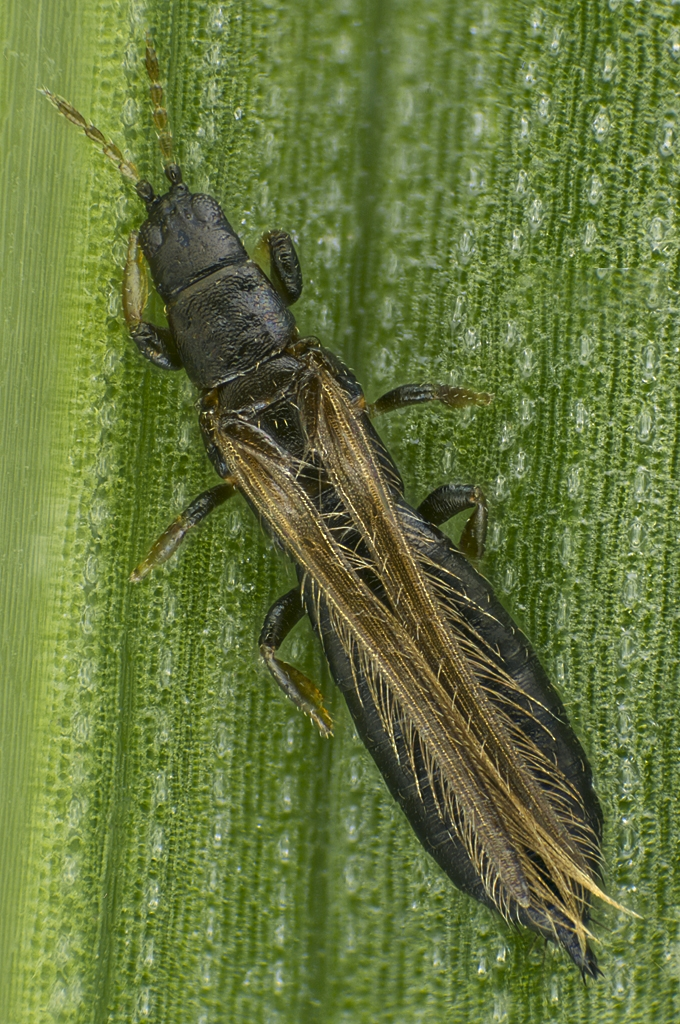Phlaeothripidae: (38, 47, 655, 1006)
